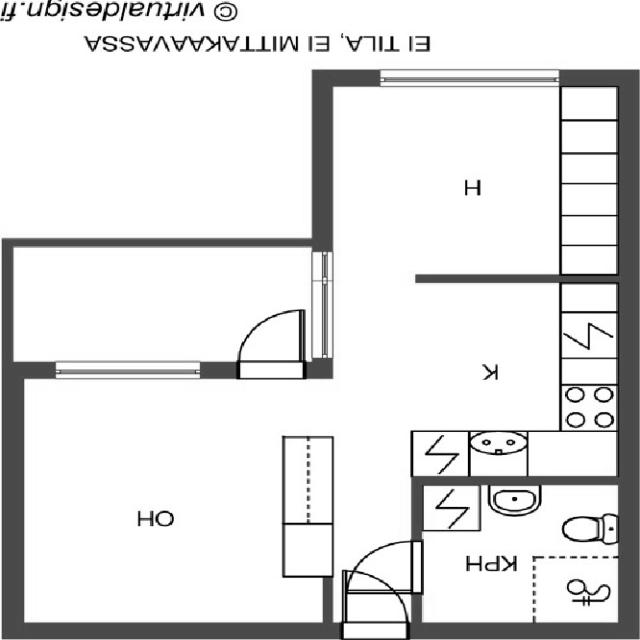door: (232, 303, 308, 363), (343, 538, 422, 594)
window: (376, 66, 562, 92), (304, 246, 341, 363), (42, 356, 208, 382)
zone: (20, 372, 291, 625), (330, 278, 624, 476), (323, 80, 572, 277), (1, 245, 320, 364), (414, 478, 629, 632), (282, 435, 334, 525), (342, 537, 422, 595), (339, 593, 412, 639), (282, 522, 332, 576)
